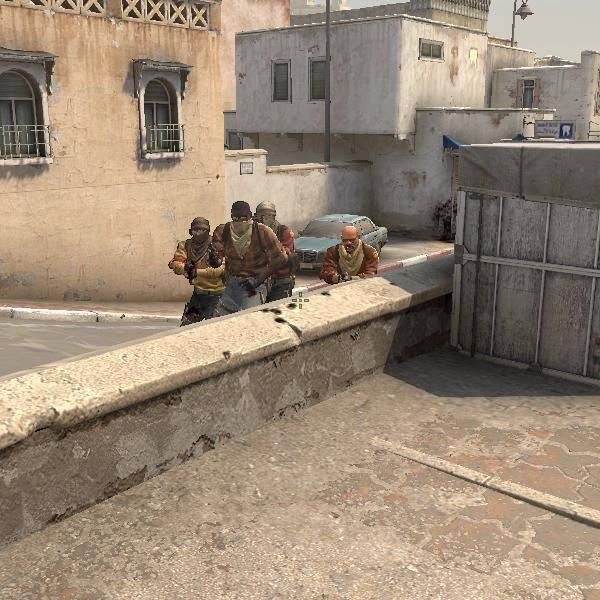t_body: (162, 213, 226, 324)
t_head: (184, 213, 218, 248)
